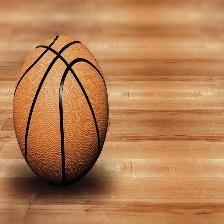Sports-Ball: (8, 36, 110, 191)
